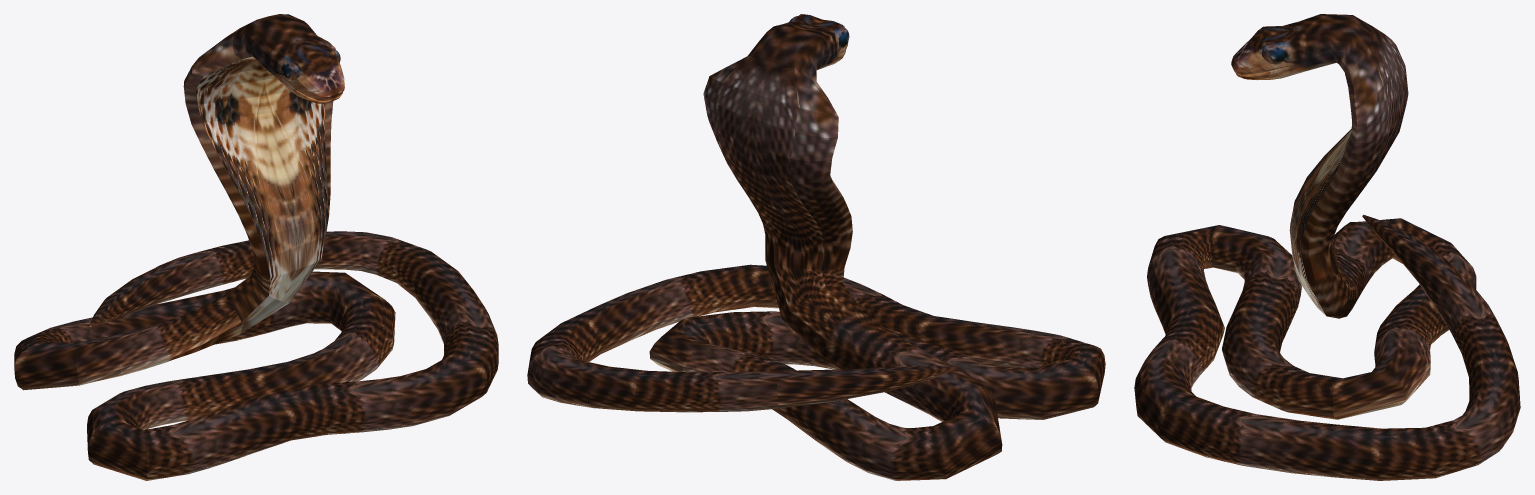
The model's file is King Cobra.fbx.
The picture shows the model from 3 angles, left to right: view 1: azimuth 30°, elevation 25°; view 2: azimuth 150°, elevation 25°; view 3: azimuth 270°, elevation 25°; orthographic projection. The views are drawn at different scales.
Visible parts, largest first — view 1: FBX.001; view 2: FBX.001; view 3: FBX.001.
Part boxes in pixels (left/top/right/bottom): FBX.001: left=14, top=14, right=498, bottom=480; FBX.001: left=527, top=14, right=1105, bottom=480; FBX.001: left=1134, top=14, right=1520, bottom=480.
Bounding box in the file's own units: 581 × 428 × 414.
1 material, 1 textured.
